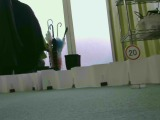speed_20: (124, 45, 142, 61)
